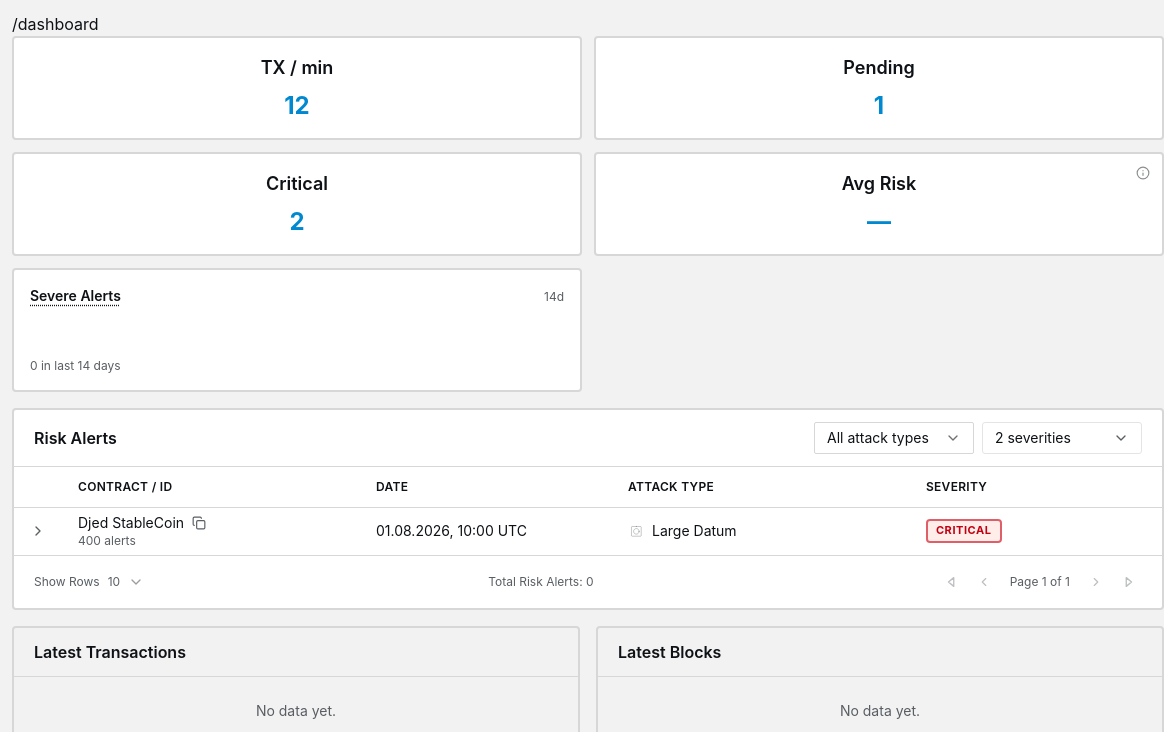
Test: contract grouping › reports alerts beyond the expansion limit instead of hiding them
The image size is (1164, 732).
Click the text "Djed StableCoin" at (131, 523), box [78,513,184,533]
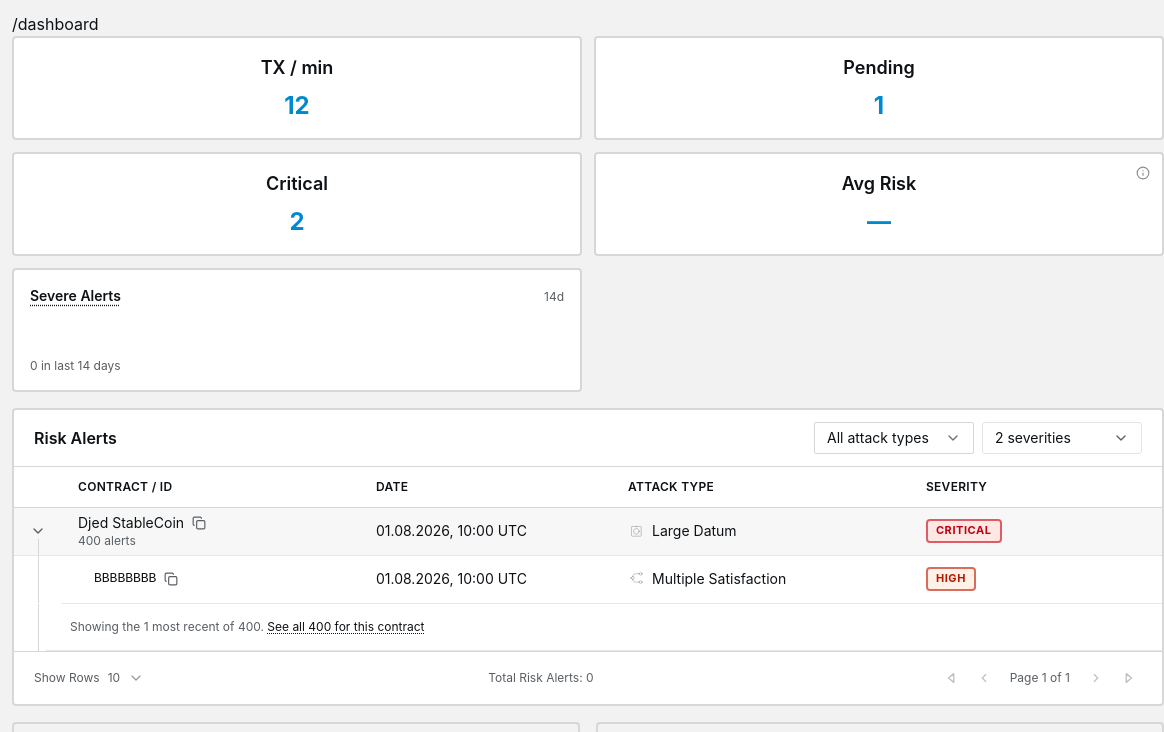
expect the text "Showing the 1 most recent of 400" is shown: met, box [70,619,267,634]
